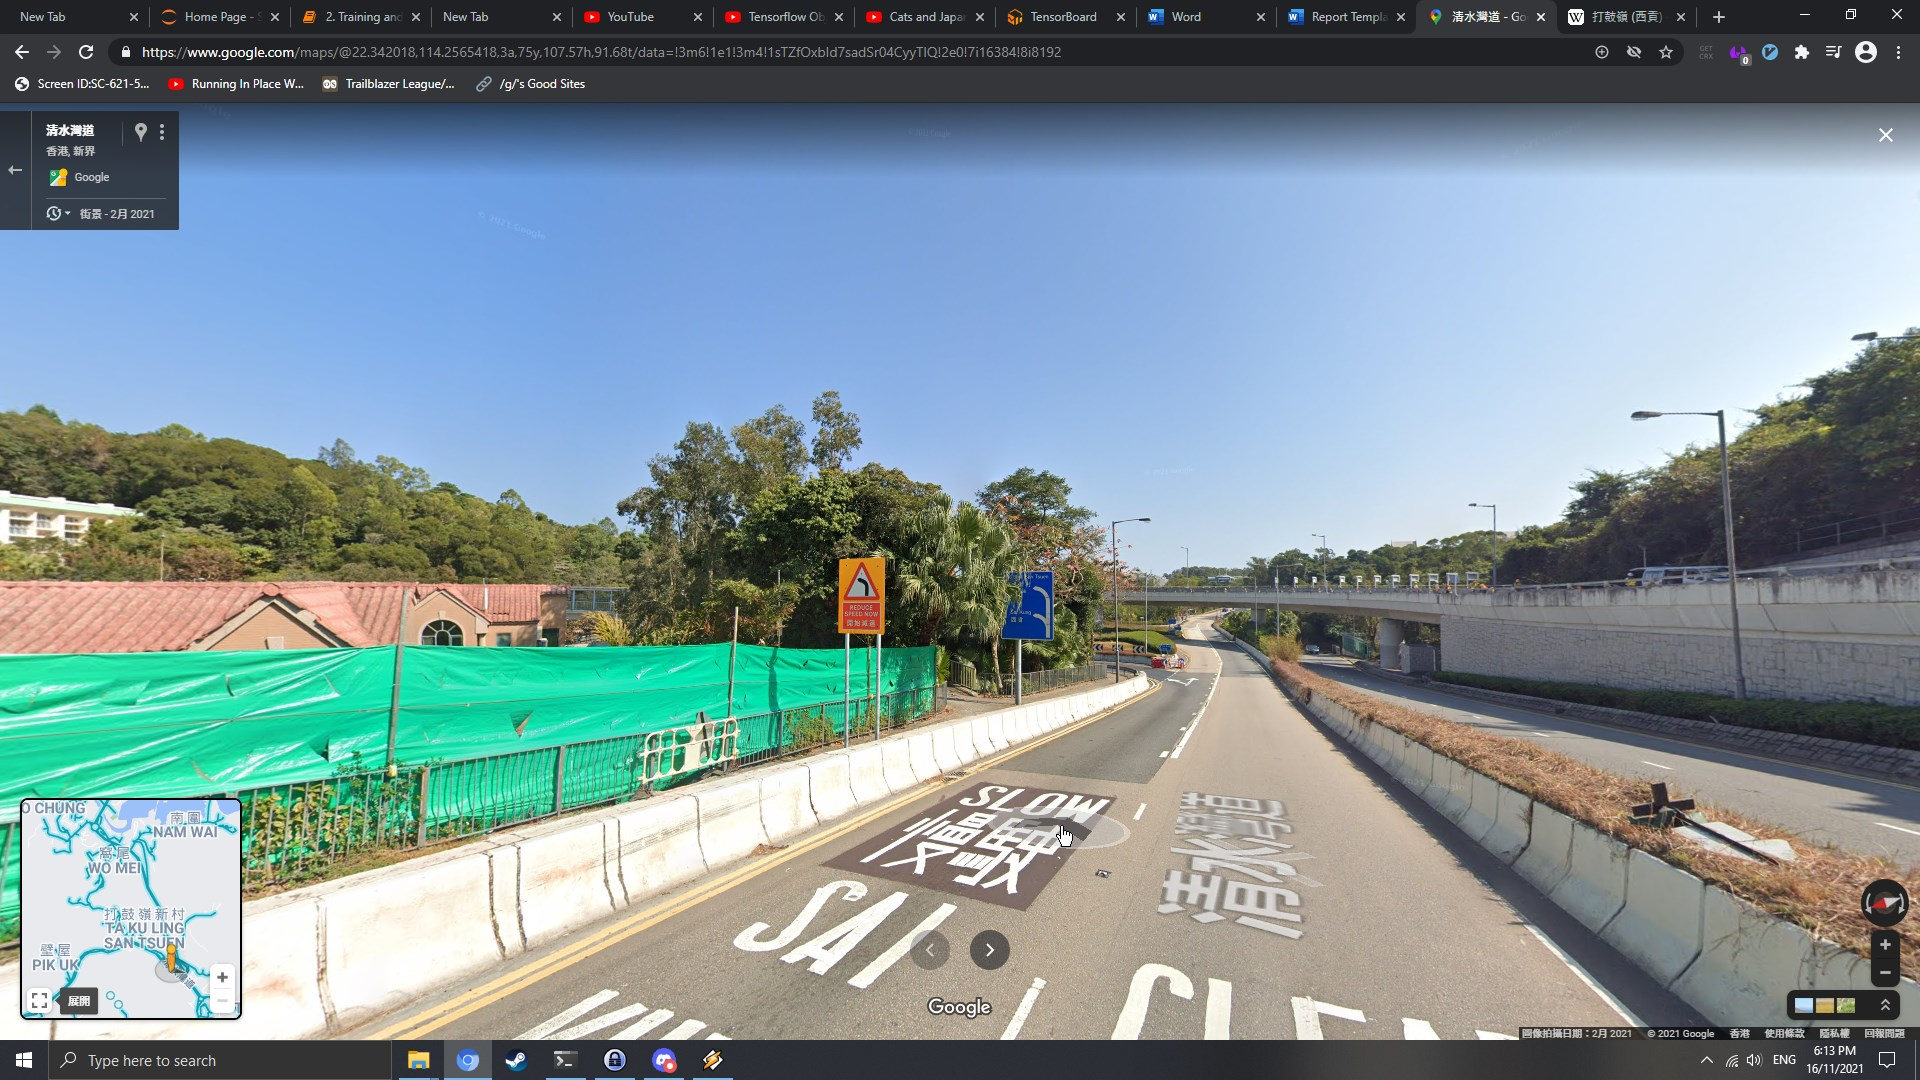BendToLeft: (843, 562, 881, 601)
